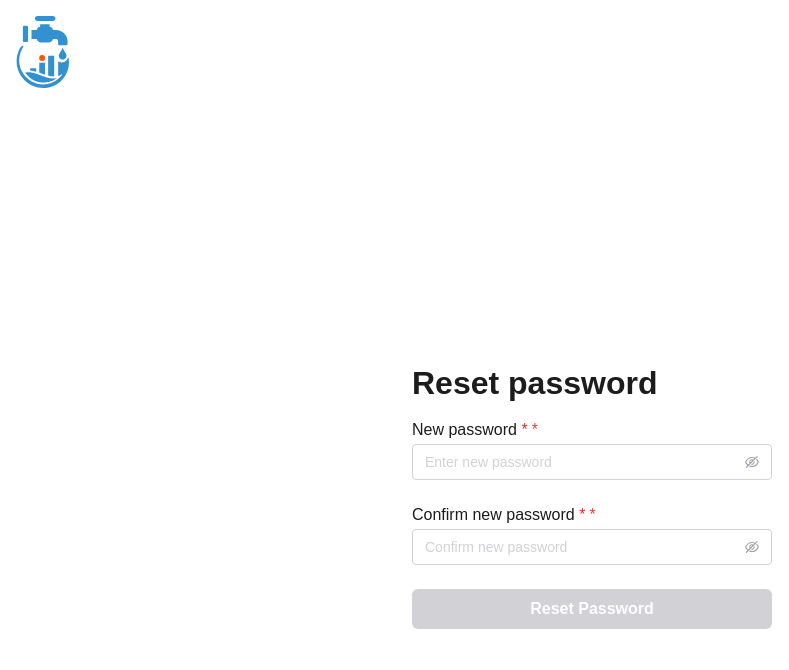
Test: ResetPasswordPage — with token › shows API error message on failure
Type "New-test-pw1" into the password field with placeholder "Enter new password" at (592, 462), box [412, 444, 772, 480]
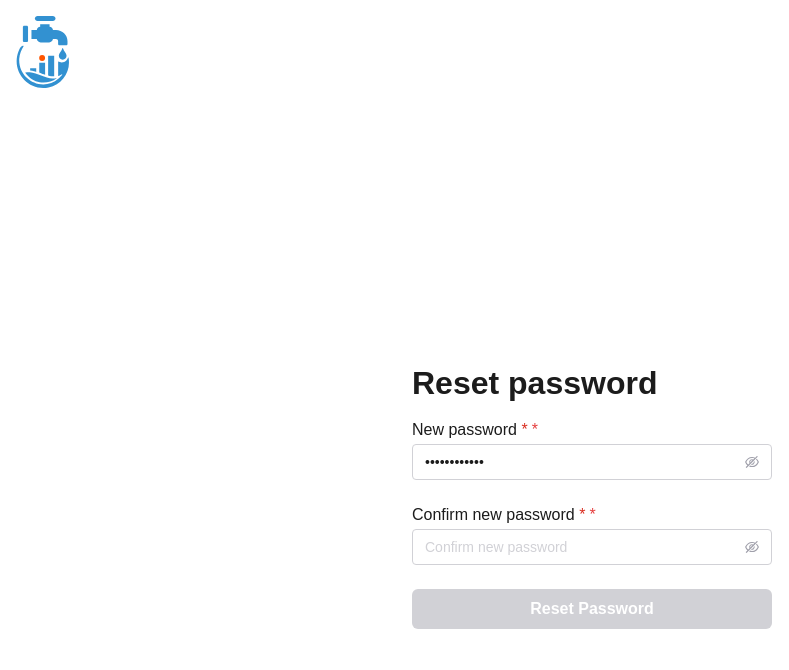
Type "New-test-pw1" into the password field with placeholder "Confirm new password" at (592, 547), box [412, 529, 772, 565]
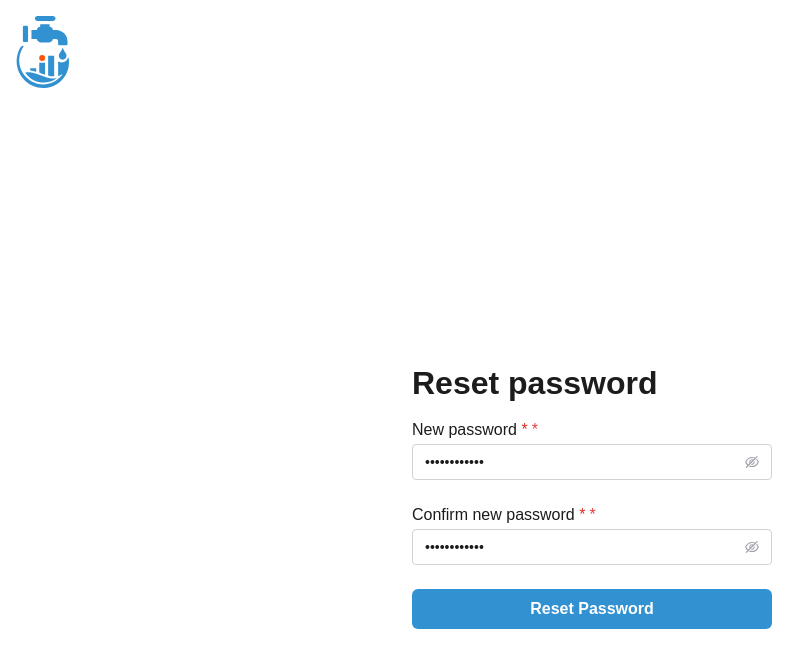
Click the button "Reset Password" at (592, 609), box [412, 589, 772, 629]
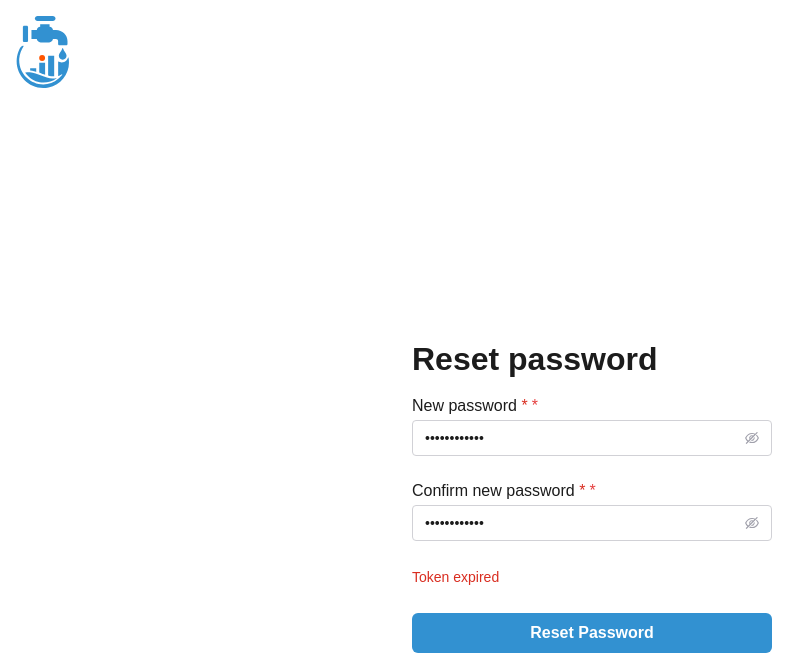
Check: the text "Token expired" is shown, box [412, 569, 499, 585]
